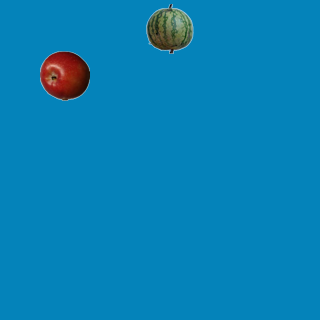Apple Braeburn: (39, 50, 89, 100)
Watermelon: (144, 3, 194, 53)
